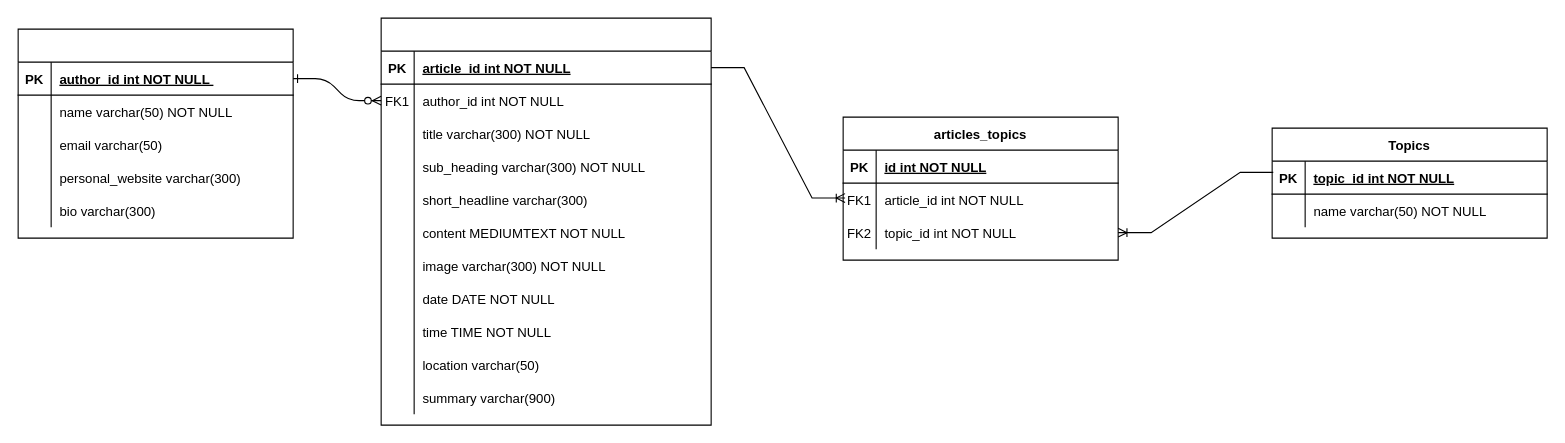
The diagram is 1565 pixels wide and 443 high, and some of its shapes have lost their labels. Here are the shapes that lost their labels. From the top down, the box of each, then its label:
(17, 28, 293, 238): Authors
(380, 17, 711, 425): Articles
